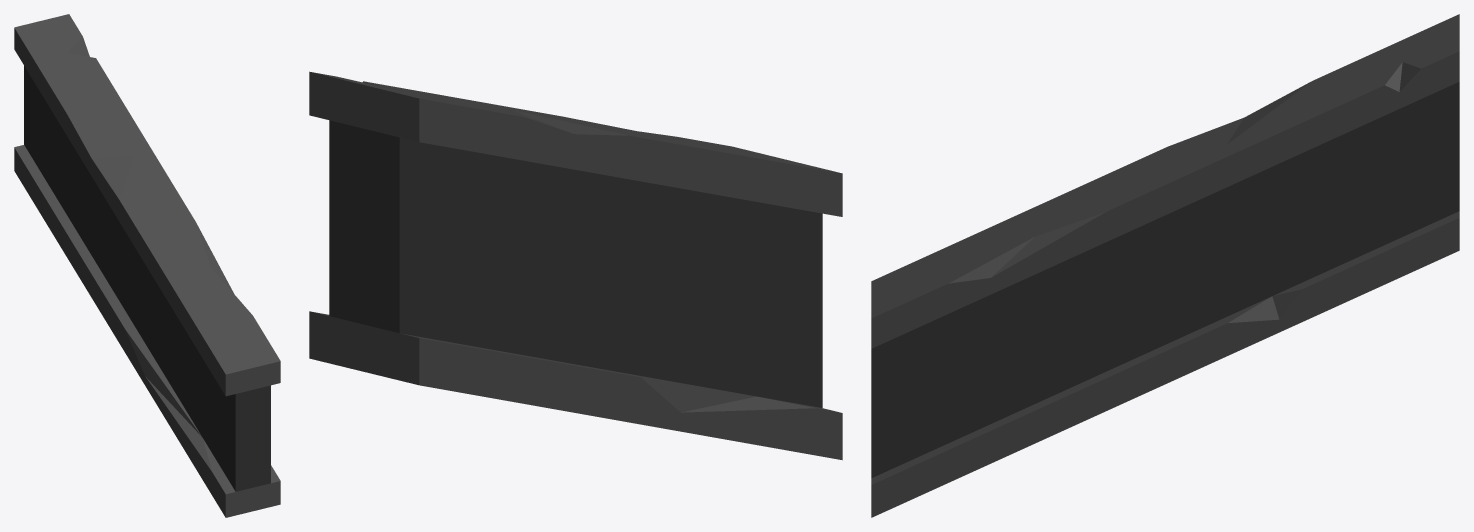
Rendered from StairHandle.fbx.
3 renders of one model, left to right at view 1: azimuth 30°, elevation 25°; view 2: azimuth 150°, elevation 25°; view 3: azimuth 270°, elevation 25°, orthographic. The views are drawn at different scales.
Visible parts, largest first — view 1: StairHandle; view 2: StairHandle; view 3: StairHandle.
Part boxes in pixels (x1,y1,x2,y2): StairHandle: (14,14,280,517); StairHandle: (309,71,842,460); StairHandle: (871,14,1459,517).
Bounding box in the file's own units: 60 × 350 × 400.
1 material, 1 textured.
